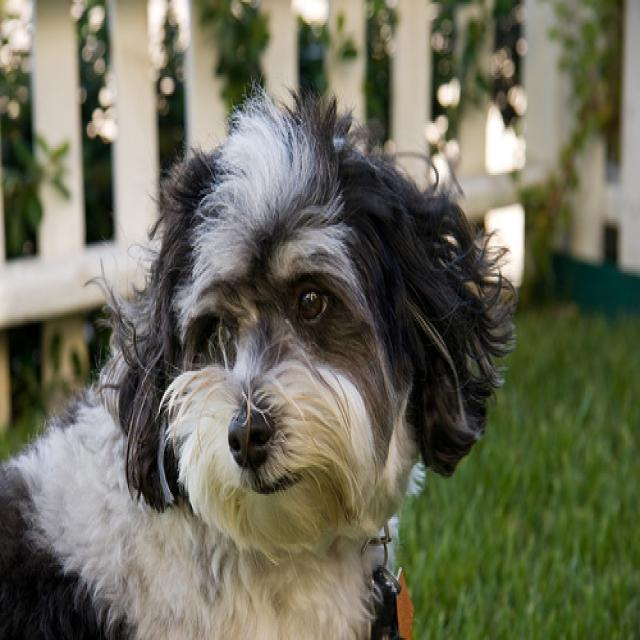dog-havanese: (1, 104, 497, 636)
